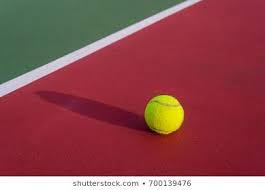tennis_ball: (144, 94, 185, 136)
